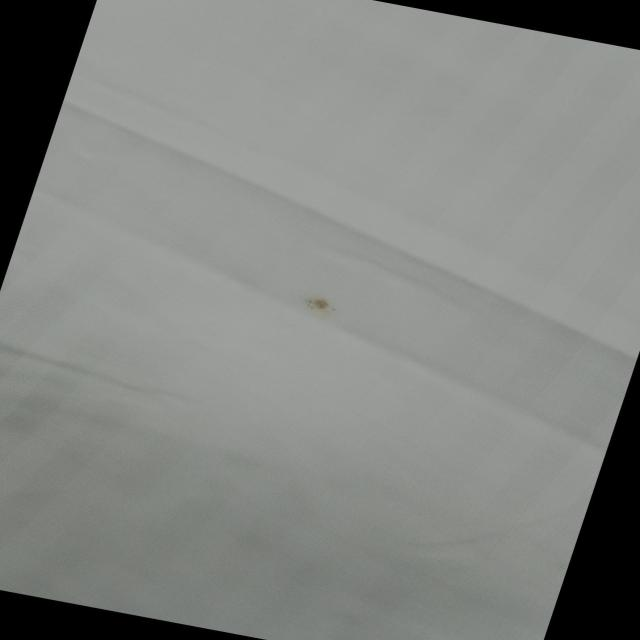stain: (283, 283, 350, 327)
